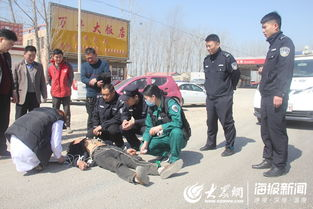fall: (62, 131, 182, 185)
